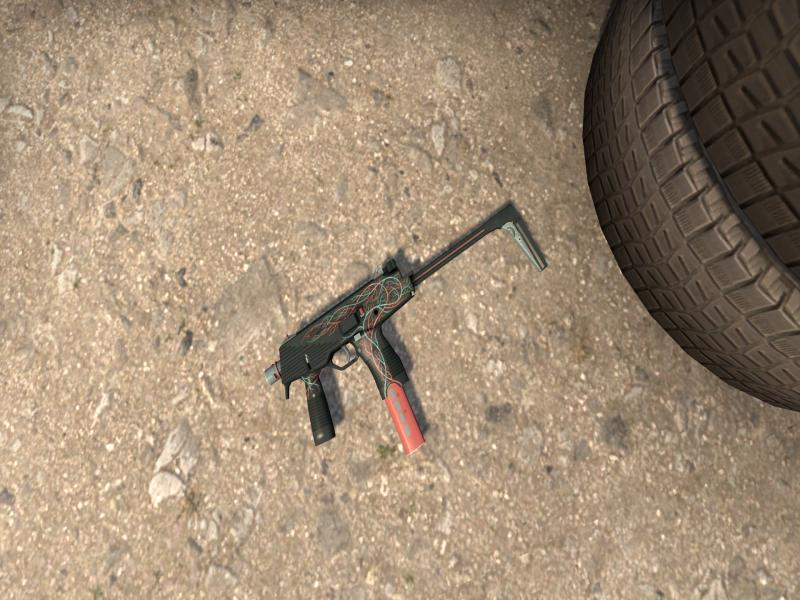MP9: (265, 202, 546, 454)
